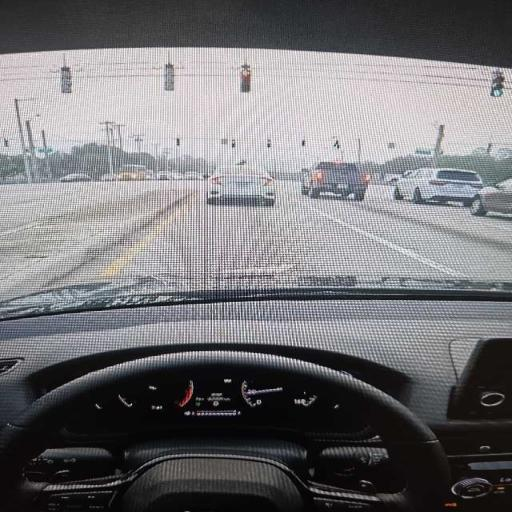car: (394, 168, 483, 206), (301, 163, 370, 200), (207, 169, 275, 205), (471, 179, 511, 216), (60, 173, 91, 182), (383, 173, 402, 184), (184, 173, 203, 180), (156, 172, 171, 180), (100, 174, 115, 181)
lane: (110, 182, 447, 280), (0, 182, 187, 299), (306, 186, 511, 279)
